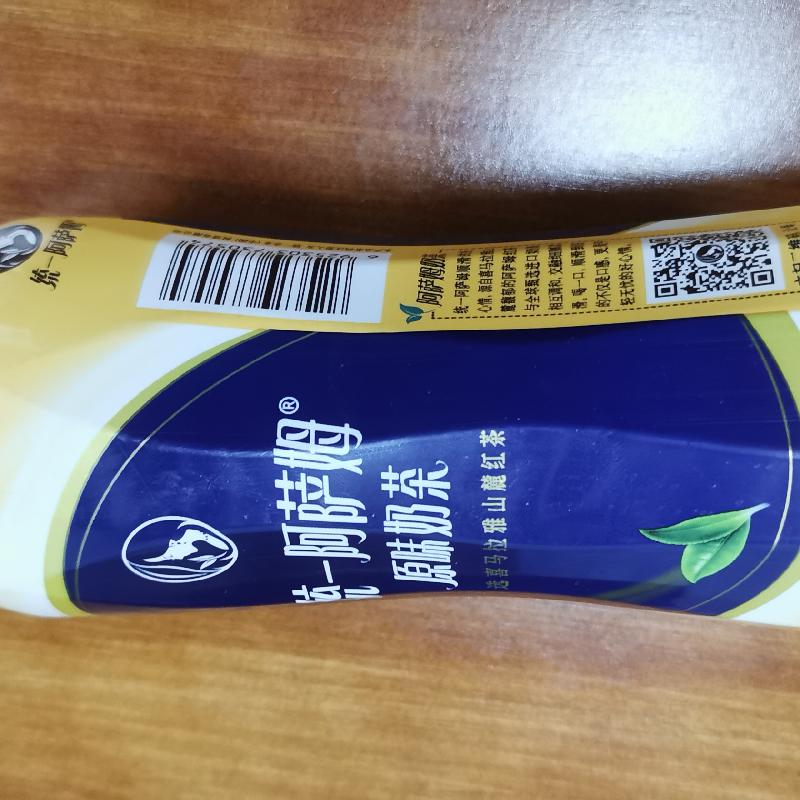bottles: (2, 202, 799, 627)
